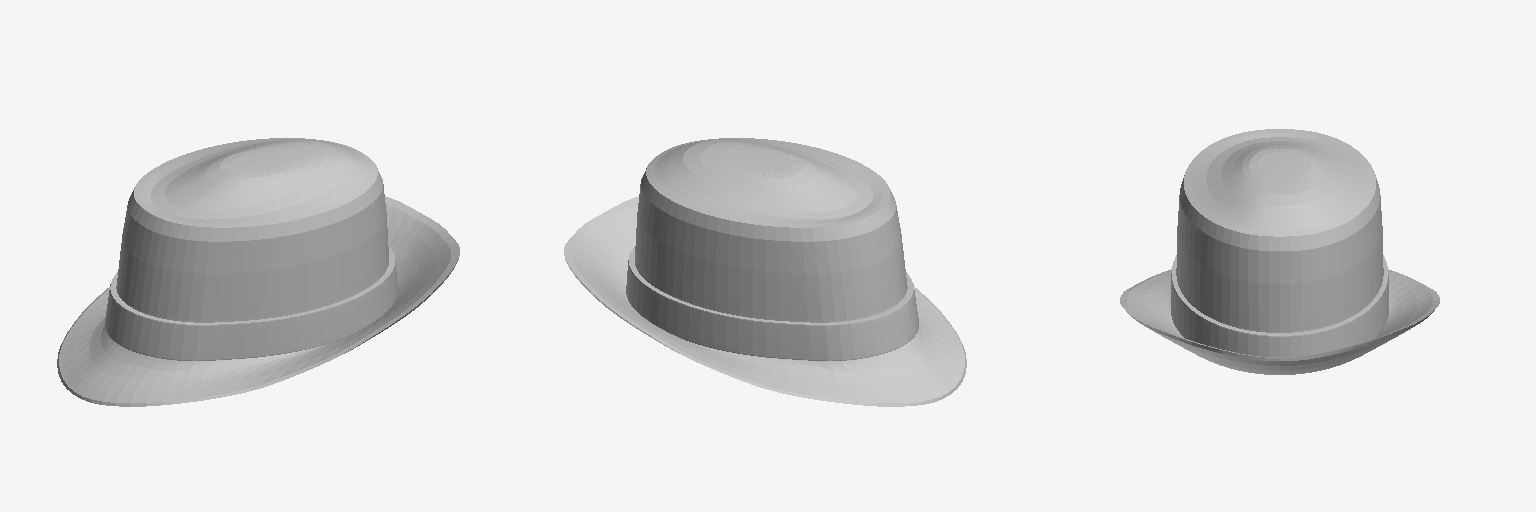
File: Fedora.obj
The picture shows the model from 3 angles: view 1: azimuth 30°, elevation 25°; view 2: azimuth 150°, elevation 25°; view 3: azimuth 270°, elevation 25°; orthographic projection.
Visible parts, largest first — view 1: Fedora; view 2: Fedora; view 3: Fedora.
Part boxes in pixels (x1,y1,x2,y2): Fedora: (57, 138, 459, 406); Fedora: (564, 138, 966, 406); Fedora: (1120, 129, 1439, 374).
Bounding box in the file's own units: 13.85 × 6.74 × 10.5.